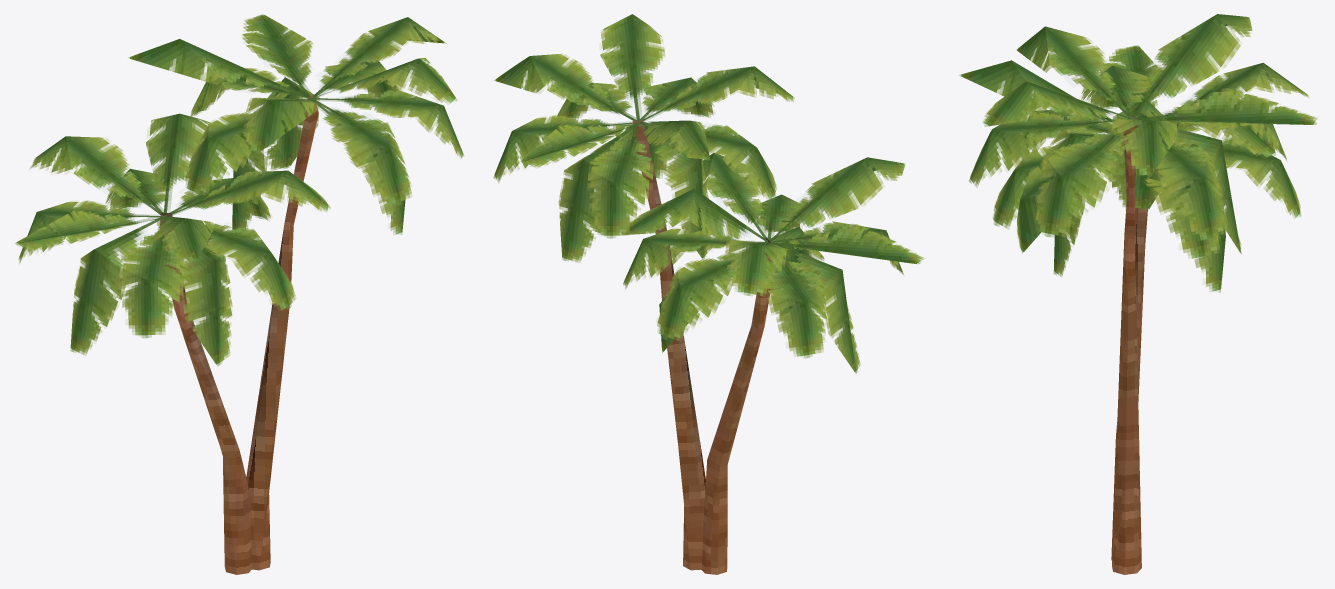
Rendered from bay-palm.lod2.glb.
3 renders of one model, left to right at view 1: azimuth 30°, elevation 25°; view 2: azimuth 150°, elevation 25°; view 3: azimuth 270°, elevation 25°, orthographic. The views are drawn at different scales.
Visible parts, largest first — view 1: Leaf_4_Leaf_3_0, Bark_4_Bark_4_0; view 2: Leaf_4_Leaf_3_0, Bark_4_Bark_4_0; view 3: Leaf_4_Leaf_3_0, Bark_4_Bark_4_0.
Boxes of the visible parts, box(x1,y1,x2,y2) form: Leaf_4_Leaf_3_0: box(15, 14, 464, 366); Bark_4_Bark_4_0: box(160, 94, 318, 574); Leaf_4_Leaf_3_0: box(493, 14, 924, 373); Bark_4_Bark_4_0: box(632, 120, 772, 574); Leaf_4_Leaf_3_0: box(959, 14, 1317, 292); Bark_4_Bark_4_0: box(1111, 114, 1148, 574).
Size of the model in its own units: 7.08 by 7.91 by 4.75.
2 materials, 2 textured.
